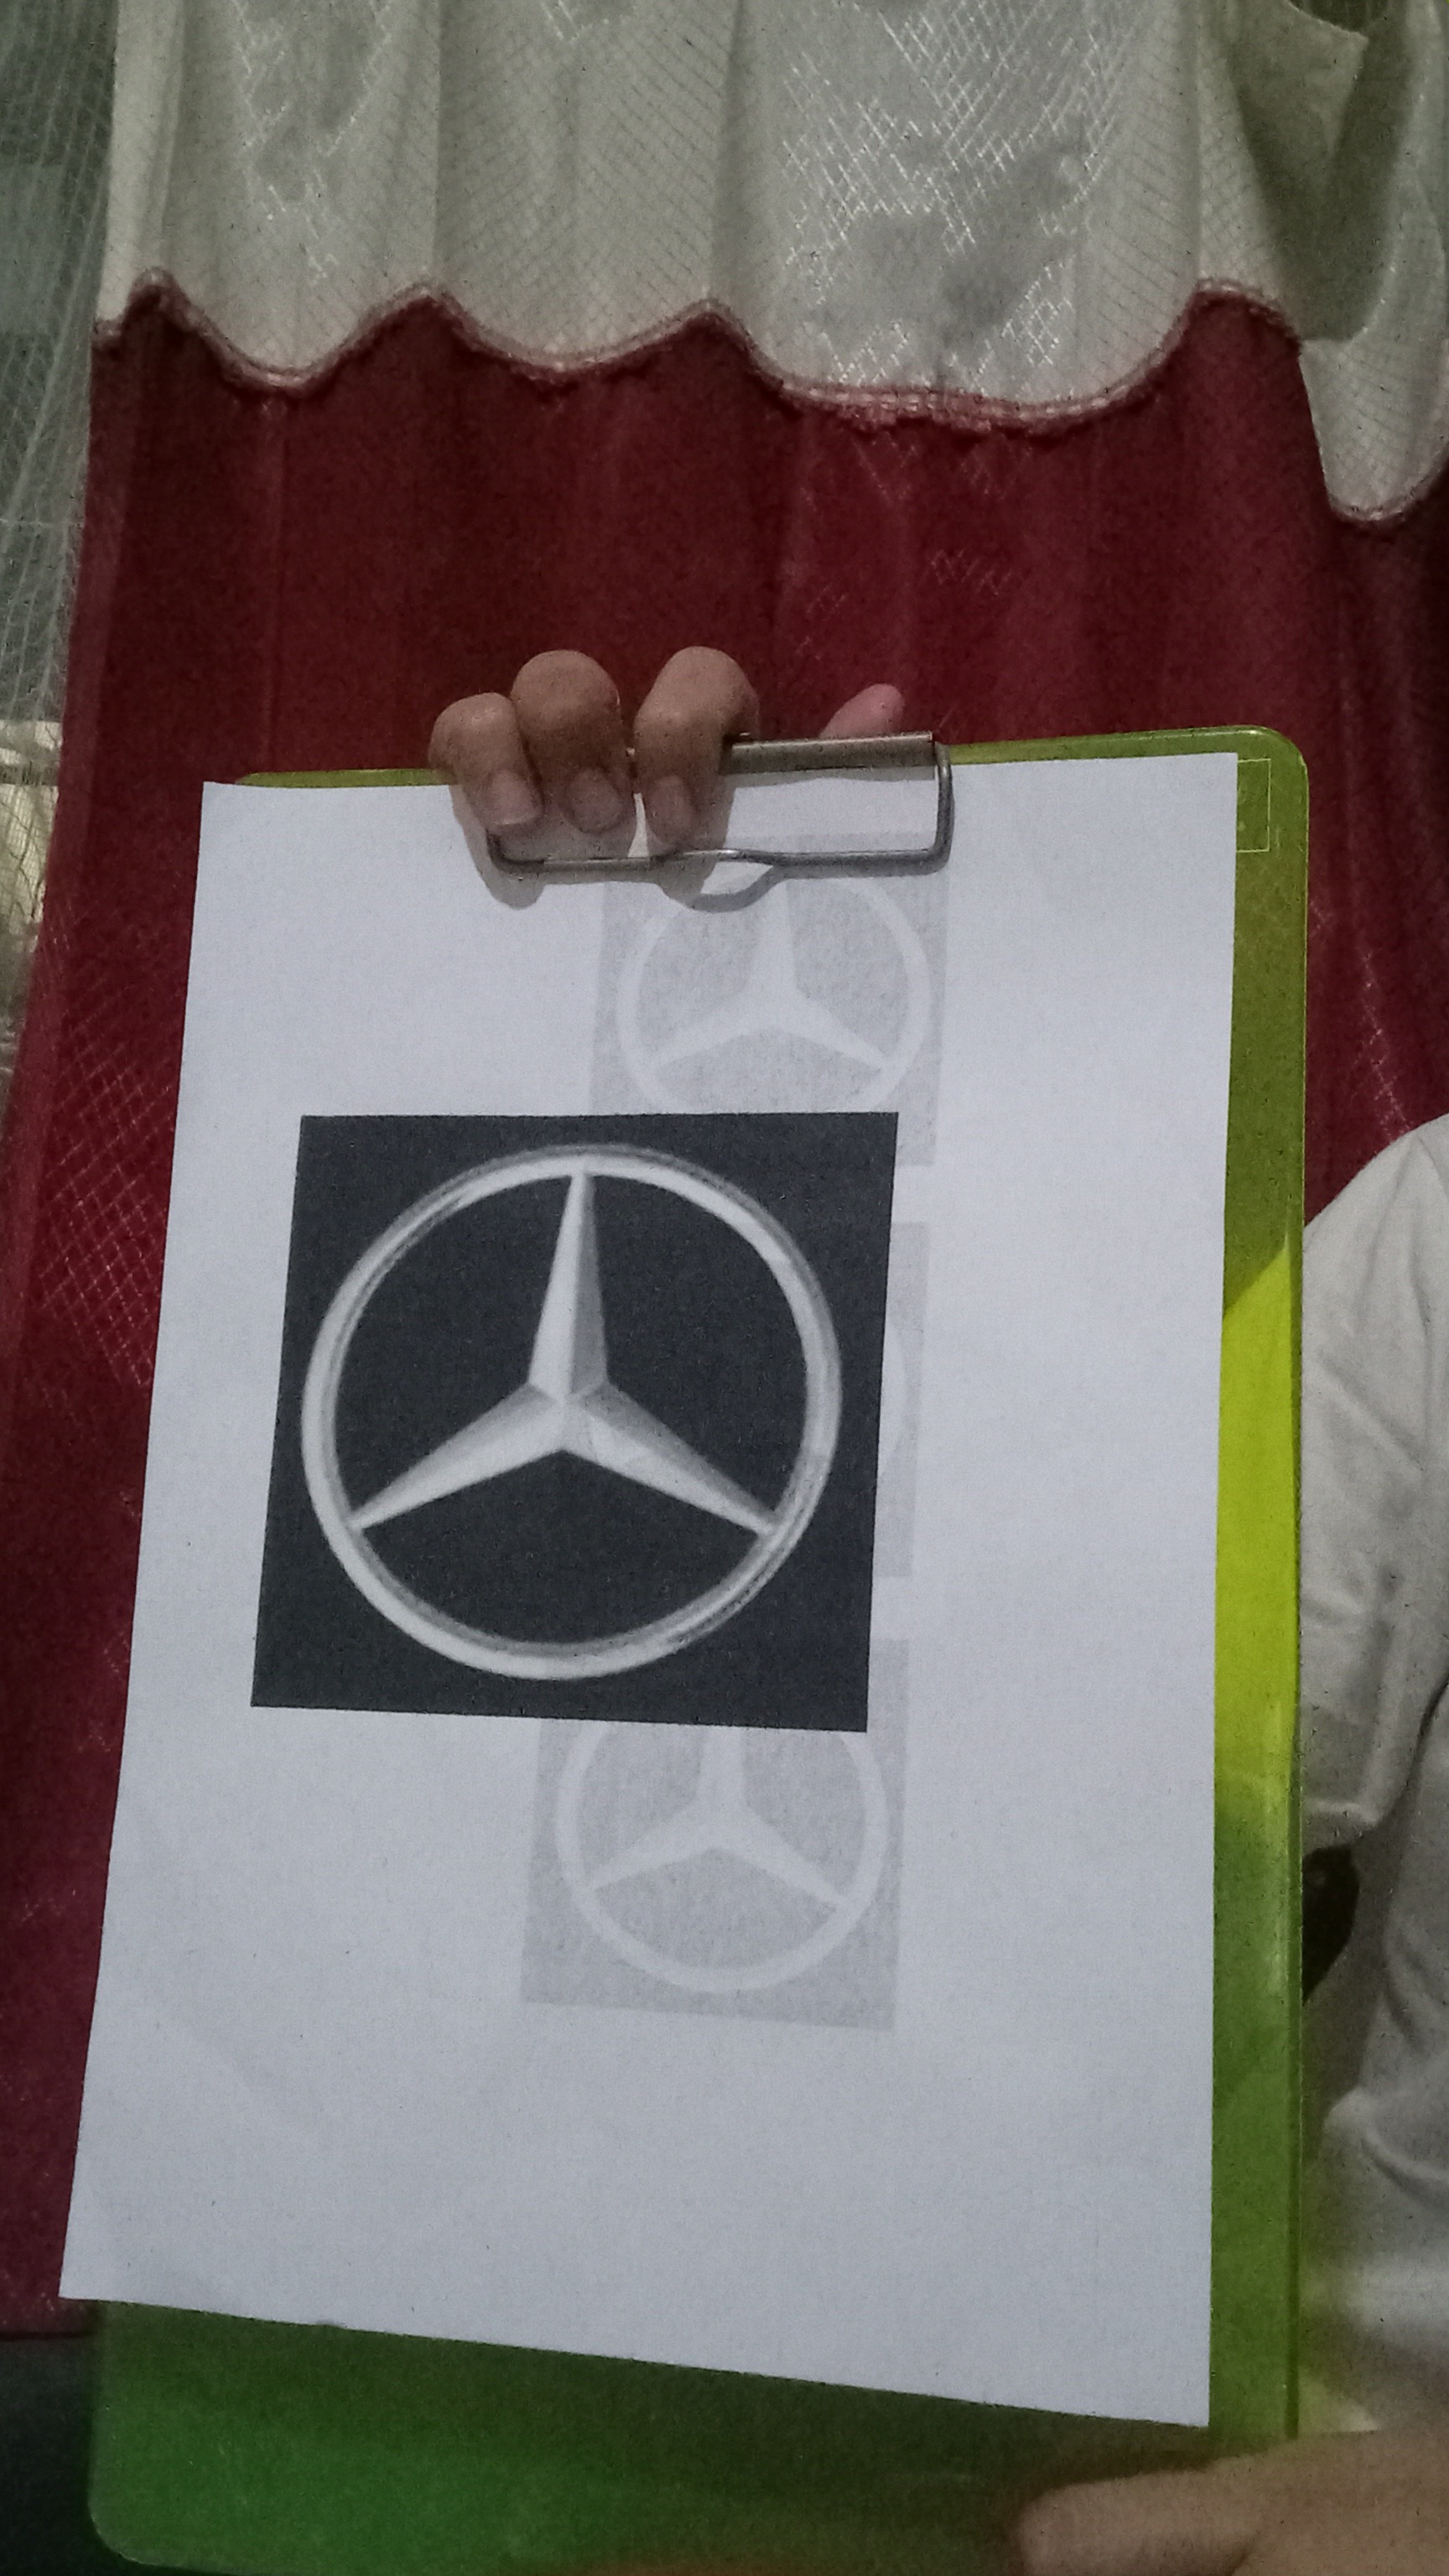Mercedes: (301, 1123, 853, 1707)
